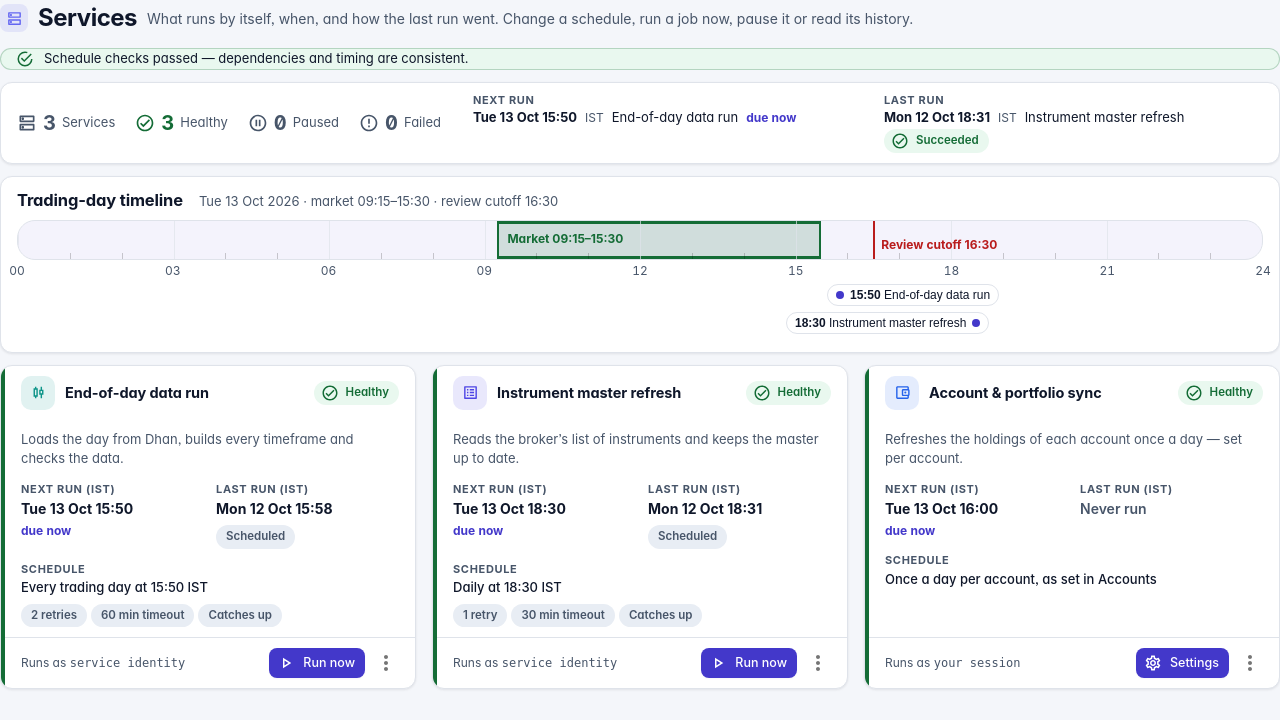
Test: Configure: what the dialog starts with › has Cancel and the close button, which leave without saving
Click the button named "Actions for End-of-day data run": [386, 663] box [369, 646, 403, 680]
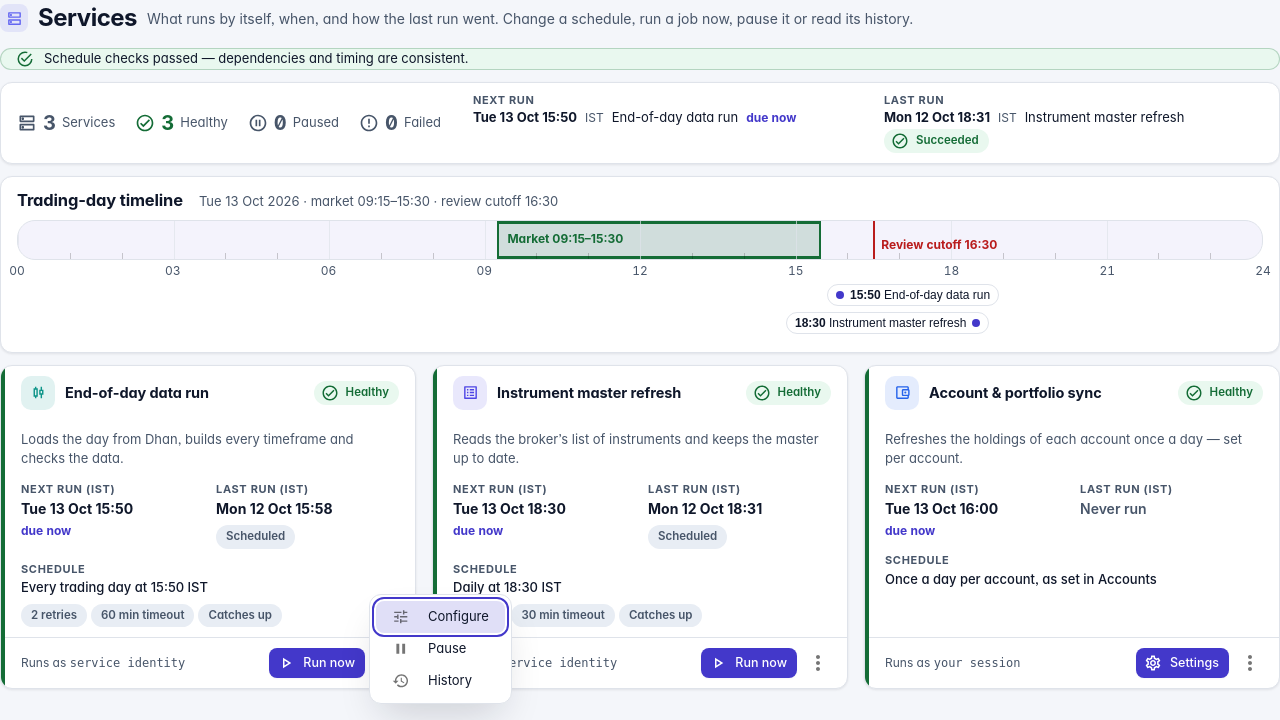
Click the menu item "Configure": [440, 617] box [376, 601, 505, 633]
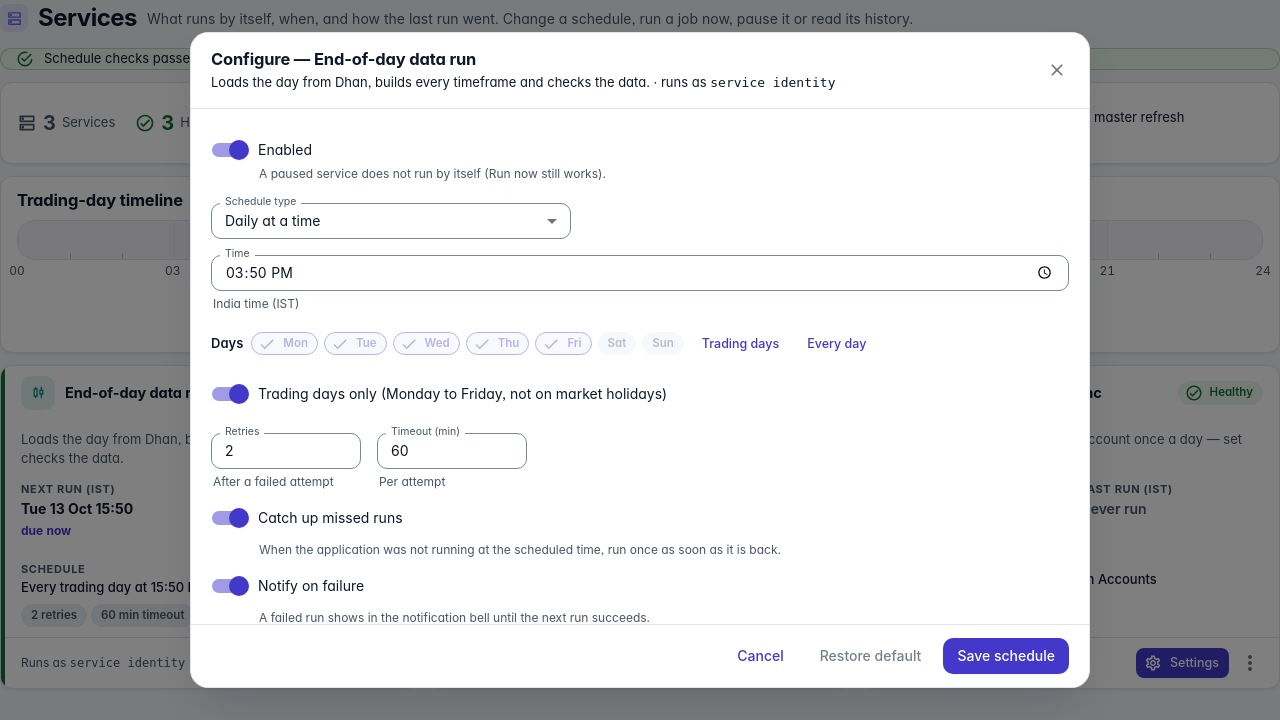
Click the button "Cancel": [761, 656] box [723, 638, 798, 674]
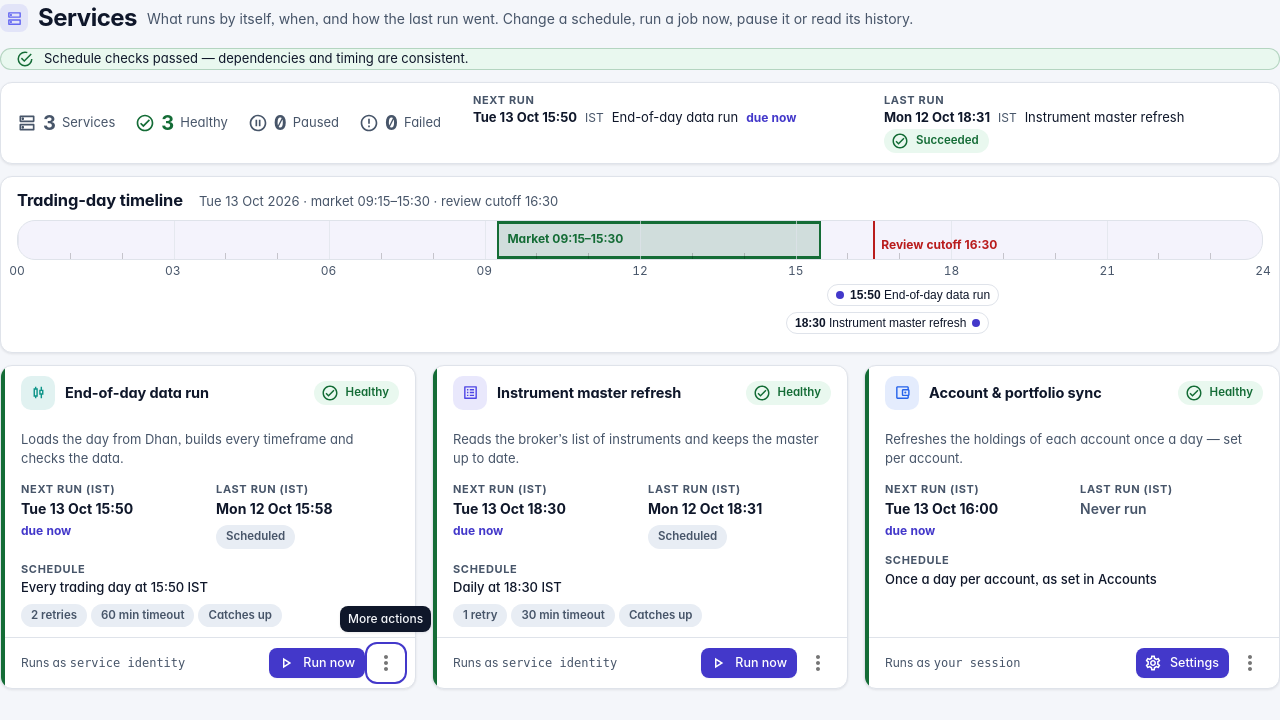
Now the dialog is gone
